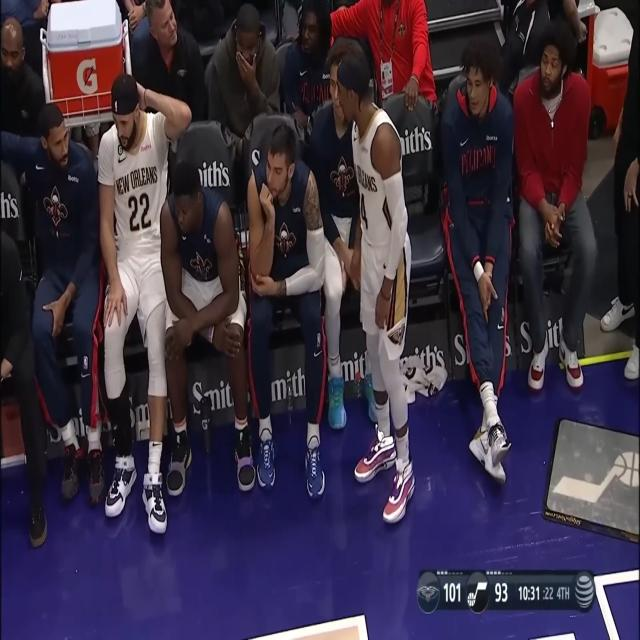Overlay: (417, 569, 596, 614)
Scoreboard: (417, 570, 572, 612)
